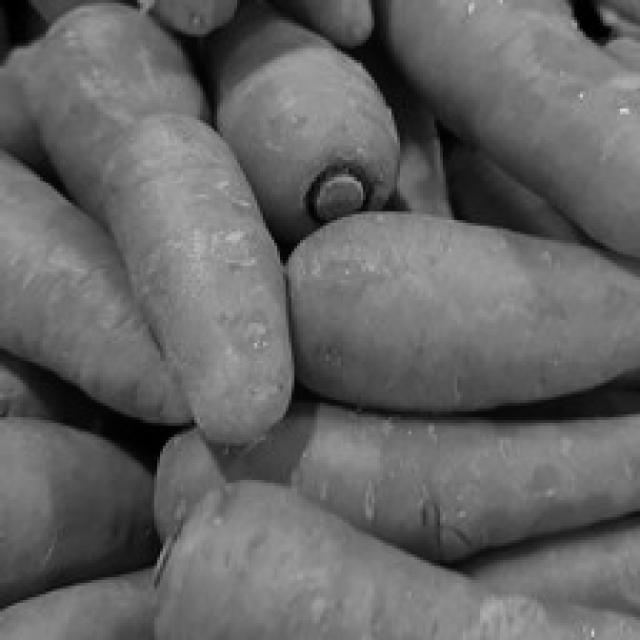Fresh_Carrot: (16, 0, 284, 427), (148, 393, 640, 565), (283, 215, 640, 407), (208, 22, 382, 225)
